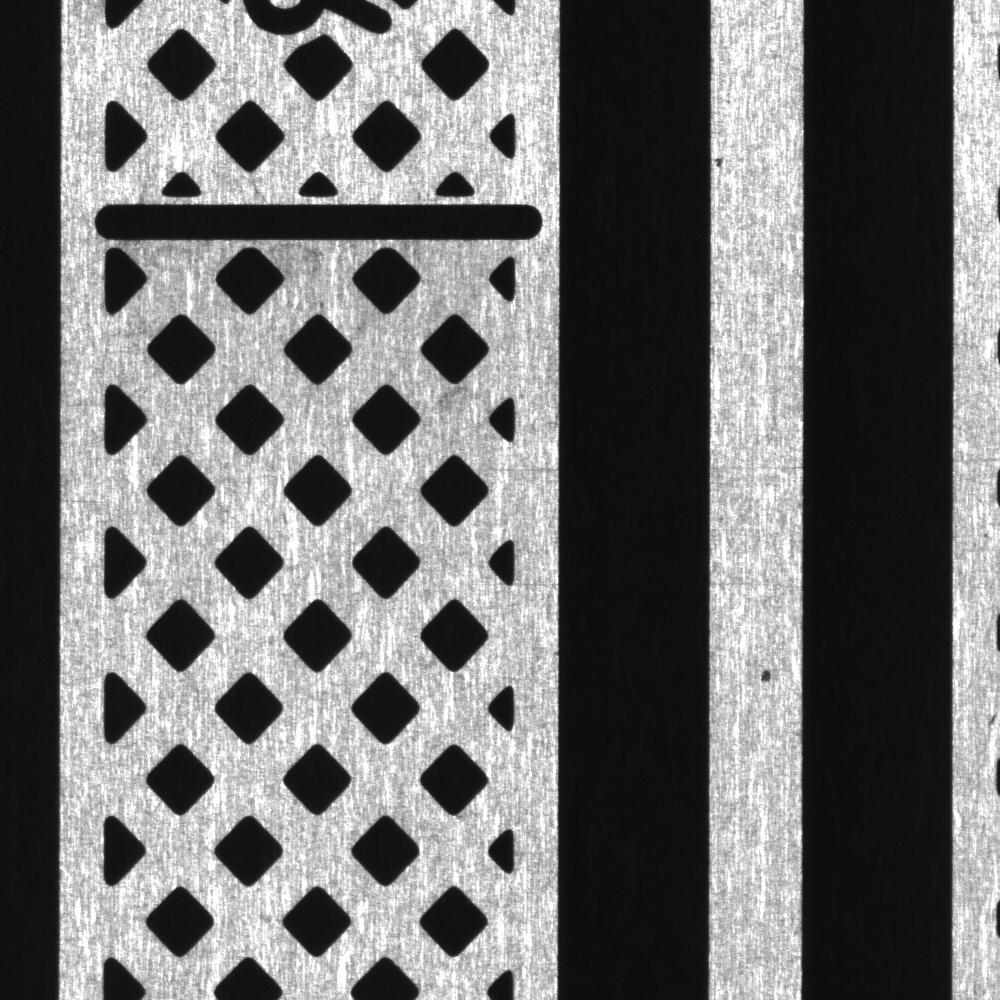Etching: (756, 661, 777, 692), (710, 149, 734, 176)
Scar: (710, 457, 805, 476), (711, 575, 803, 592)
